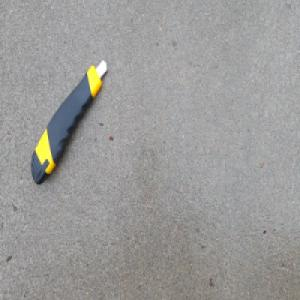Cutter: (30, 59, 108, 185)
